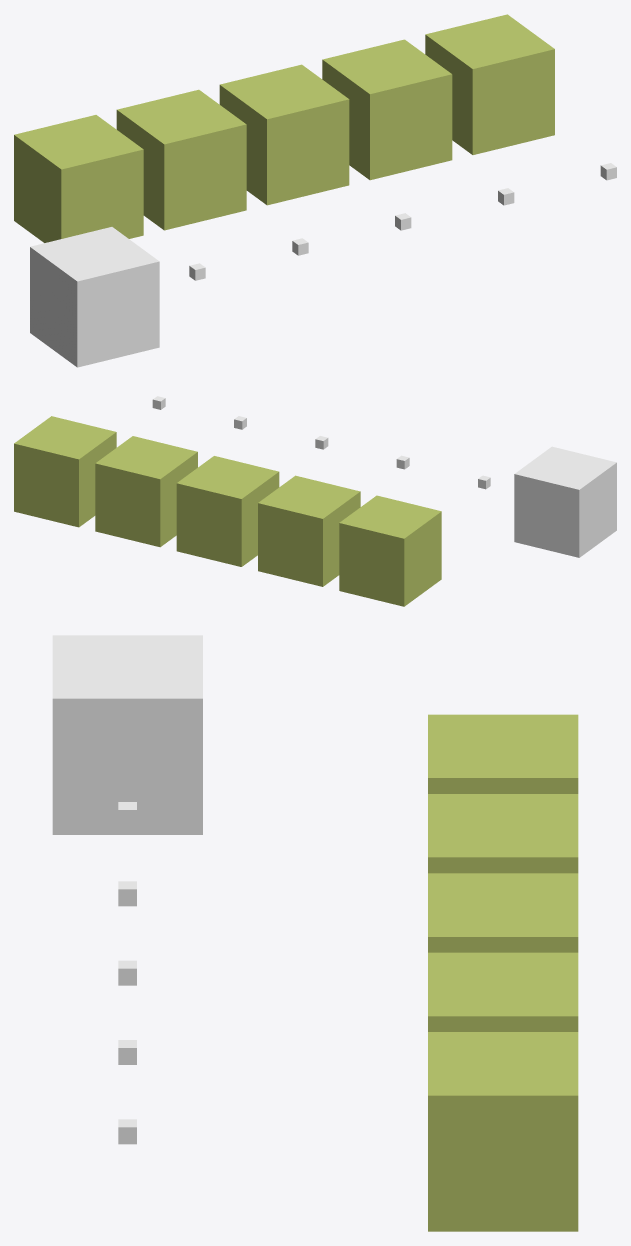
3 views of the same model, one above another, from view 1: azimuth 30°, elevation 25°; view 2: azimuth 150°, elevation 25°; view 3: azimuth 270°, elevation 25° (orthographic). The views are drawn at different scales.
Parts seen in each view (by area): view 1: Block, Enemy0, Enemy1, Enemy3, Enemy2, Enemy4; view 2: Enemy0, Block, Enemy2, Enemy4, Enemy1, Enemy3; view 3: Enemy4, Block, Enemy2, Enemy0, Enemy1, Enemy3.
Part boxes in pixels (x1=…): Block: x1=30, y1=227, x2=159, y2=367; Enemy0: x1=14, y1=115, x2=143, y2=242; Enemy1: x1=116, y1=89, x2=246, y2=230; Enemy3: x1=322, y1=39, x2=452, y2=180; Enemy2: x1=219, y1=64, x2=349, y2=205; Enemy4: x1=425, y1=14, x2=554, y2=154; Enemy0: x1=339, y1=495, x2=441, y2=606; Block: x1=514, y1=446, x2=616, y2=557; Enemy2: x1=176, y1=456, x2=279, y2=566; Enemy4: x1=14, y1=416, x2=116, y2=527; Enemy1: x1=258, y1=475, x2=360, y2=586; Enemy3: x1=95, y1=436, x2=197, y2=547; Enemy4: x1=428, y1=1032, x2=578, y2=1231; Block: x1=52, y1=635, x2=202, y2=834; Enemy2: x1=428, y1=873, x2=578, y2=952; Enemy0: x1=428, y1=714, x2=578, y2=793; Enemy1: x1=428, y1=794, x2=578, y2=873; Enemy3: x1=428, y1=952, x2=578, y2=1031.
Size of what is drawn, in the model's own units: 5.8 by 2.8 by 0.8.
